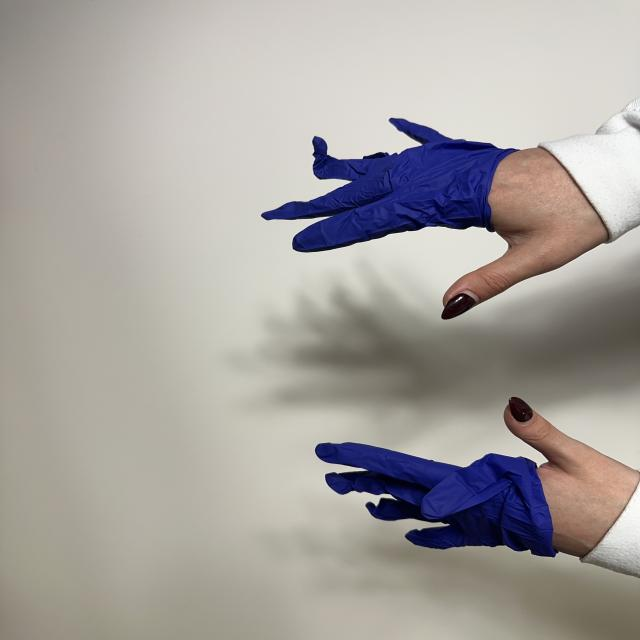glove_partial: (262, 119, 608, 319), (316, 397, 640, 557)
